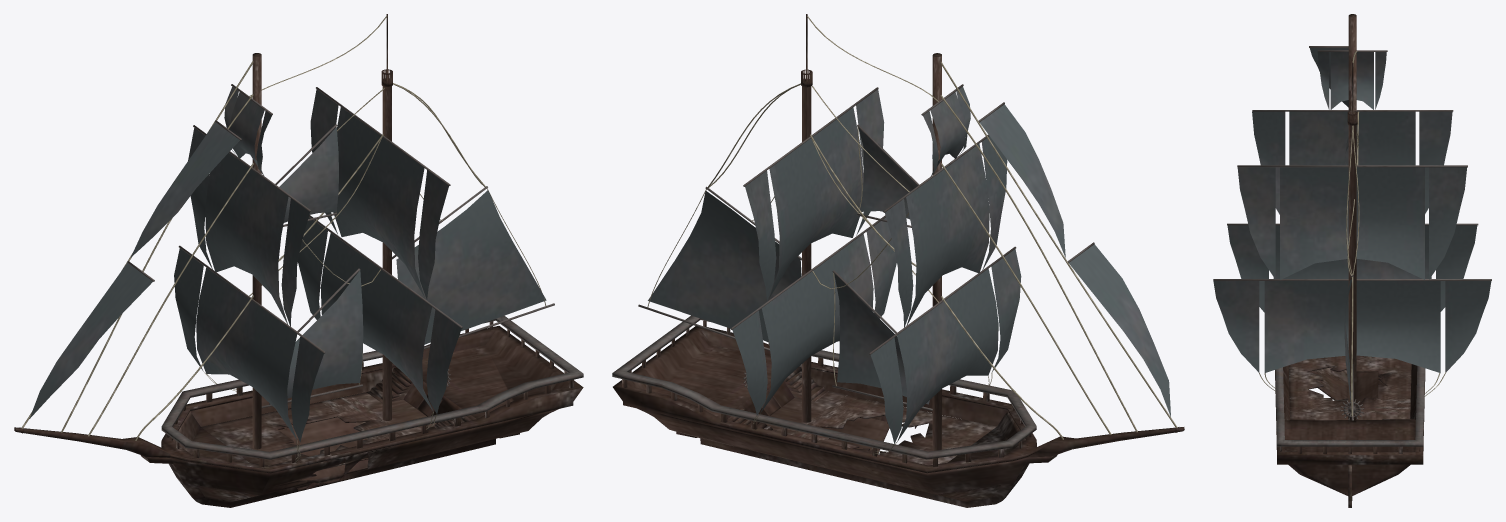
File: sunken_ship_low_poly.glb
3 renders of one model, left to right at view 1: azimuth 30°, elevation 25°; view 2: azimuth 150°, elevation 25°; view 3: azimuth 270°, elevation 25°, orthographic. The views are drawn at different scales.
Parts seen in each view (by area): view 1: Cube; view 2: Cube; view 3: Cube.
Part boxes in pixels (x1=…): Cube: x1=14, y1=14, x2=583, y2=507; Cube: x1=612, y1=14, x2=1184, y2=507; Cube: x1=1213, y1=14, x2=1491, y2=507.
Bounding box in the file's own units: 2 × 1.6 × 1.03.
Materials: 1 (1 with a texture image).
